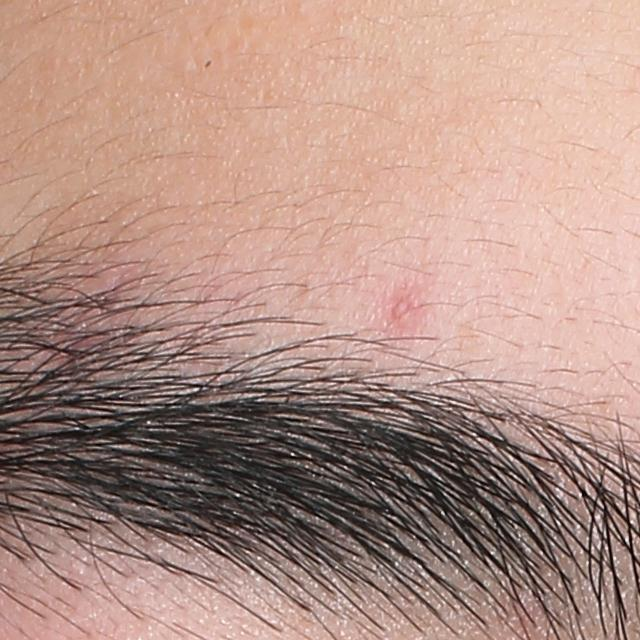papule: (388, 293, 418, 329)
